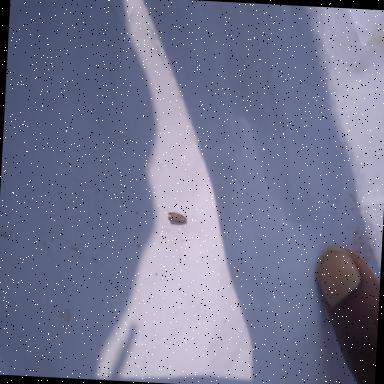pbw: (166, 205, 188, 238)
